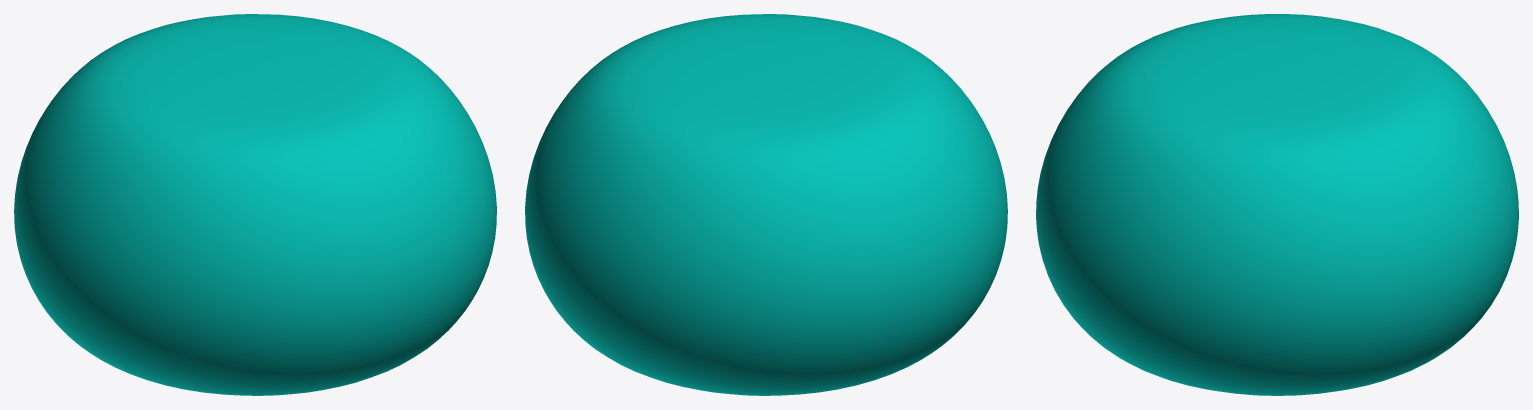
File: SM_BlobBase.fbx
3 views of the same model, side by side, from view 1: azimuth 30°, elevation 25°; view 2: azimuth 150°, elevation 25°; view 3: azimuth 270°, elevation 25° (orthographic).
Visible parts, largest first — view 1: SM_BlobBase; view 2: SM_BlobBase; view 3: SM_BlobBase.
Part boxes in pixels (box(x1,y1,x2,y2)): SM_BlobBase: box(14, 14, 496, 395); SM_BlobBase: box(525, 14, 1007, 395); SM_BlobBase: box(1036, 14, 1518, 395).
Bounding box in the file's own units: 1.19 × 0.7221 × 1.19.
